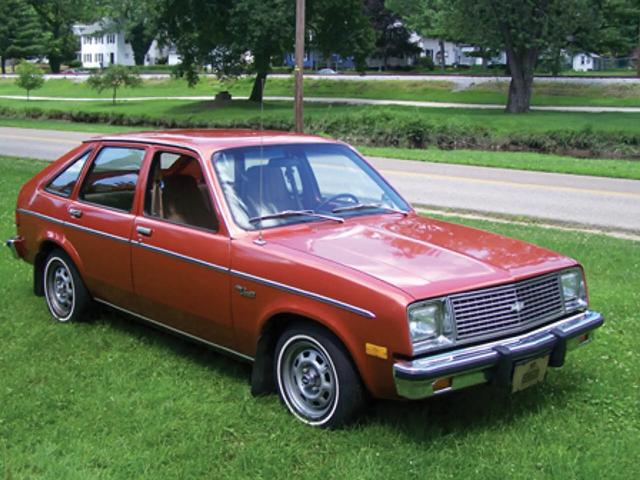chevette-1983: (6, 129, 603, 429)
